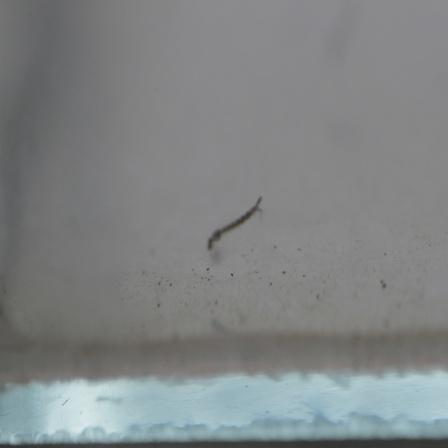Jentik-Nyamuk: (201, 191, 268, 253)
